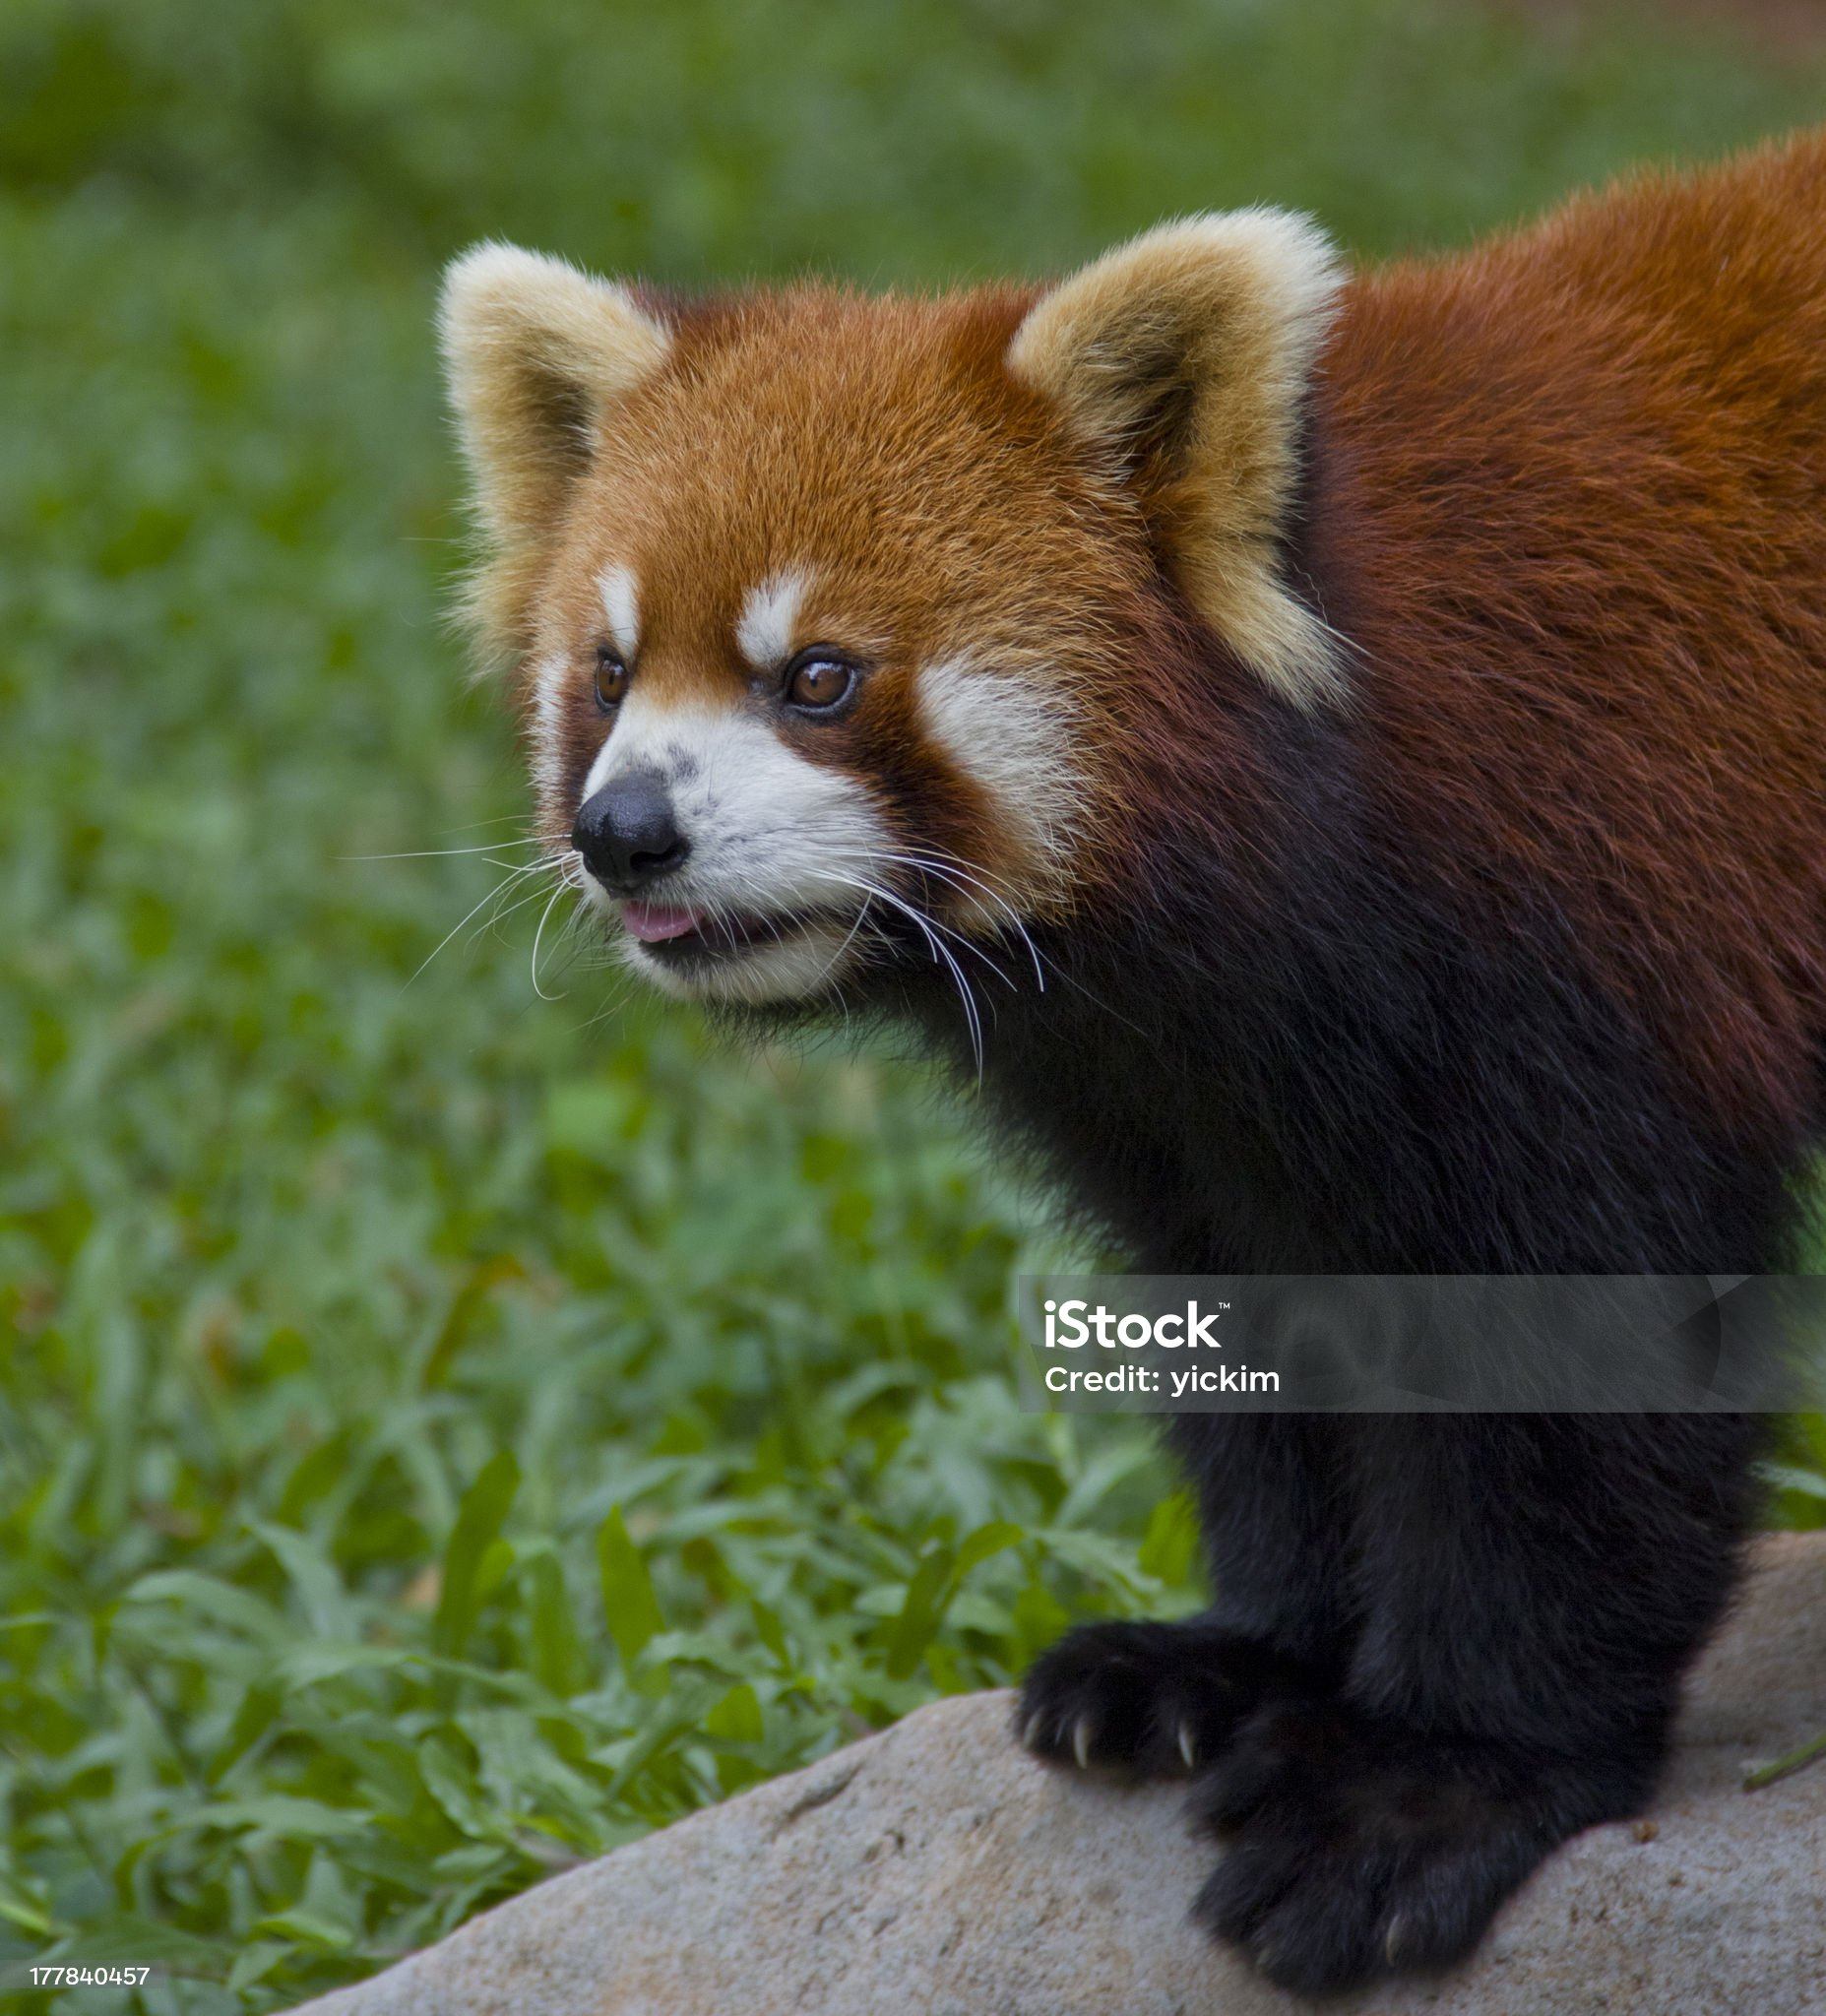Red panda: (377, 209, 1375, 1043)
